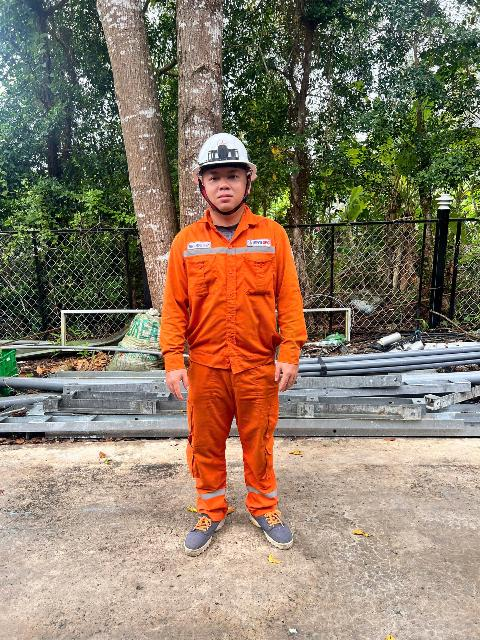helmet: (181, 109, 281, 183)
shoes: (238, 496, 309, 556), (180, 497, 237, 561)
